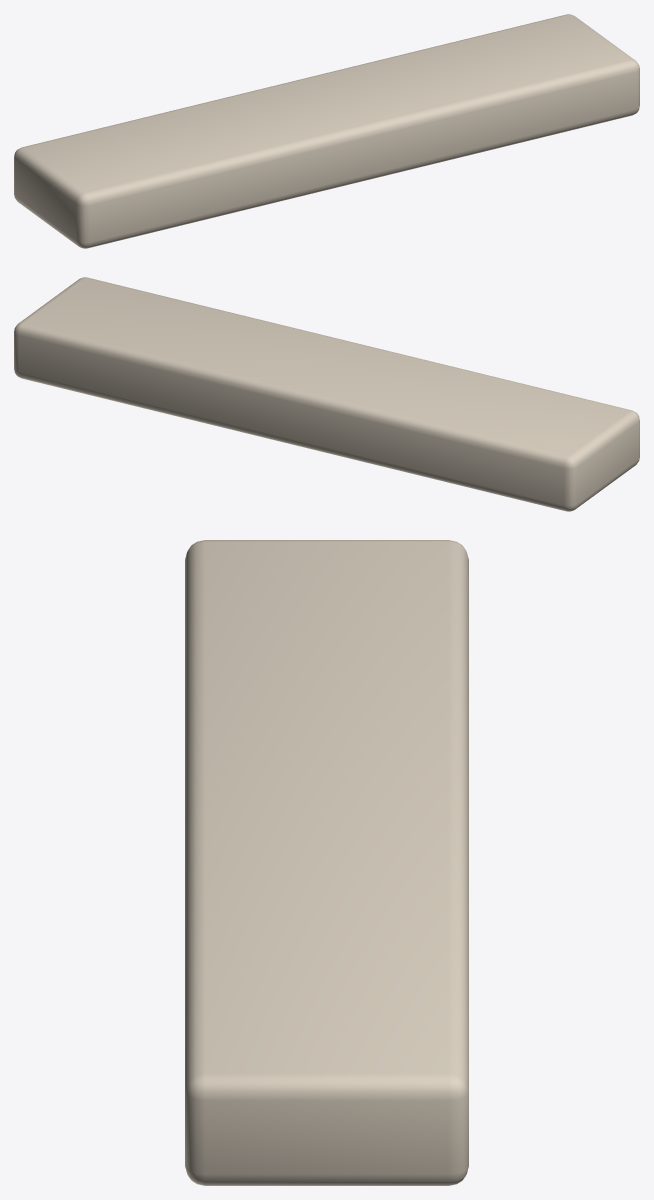
The model's file is escalon_capilla.fbx.
3 views of the same model, one above another, from view 1: azimuth 30°, elevation 25°; view 2: azimuth 150°, elevation 25°; view 3: azimuth 270°, elevation 25° (orthographic). The views are drawn at different scales.
Parts seen in each view (by area): view 1: stone; view 2: stone; view 3: stone.
Part boxes in pixels (x1,y1,x2,y2): stone: (14,14,639,248); stone: (14,277,639,511); stone: (185,540,468,1185).
Bounding box in the file's own units: 3.2 × 0.3 × 0.7.
